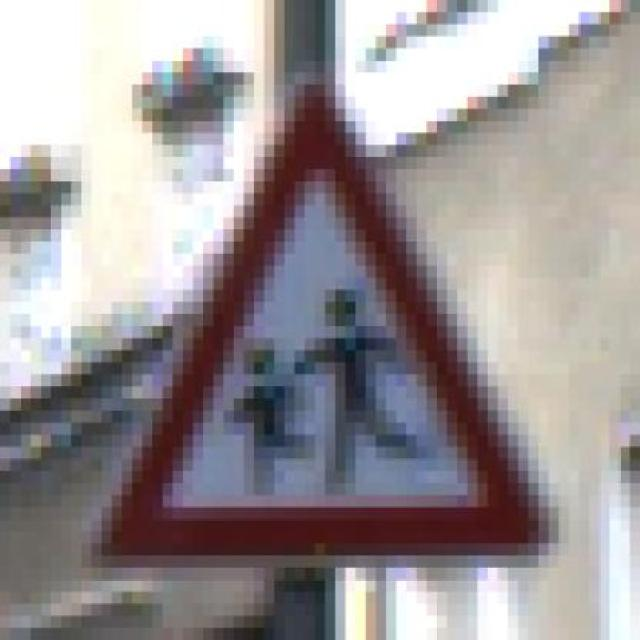Beware of children: (71, 85, 558, 568)
